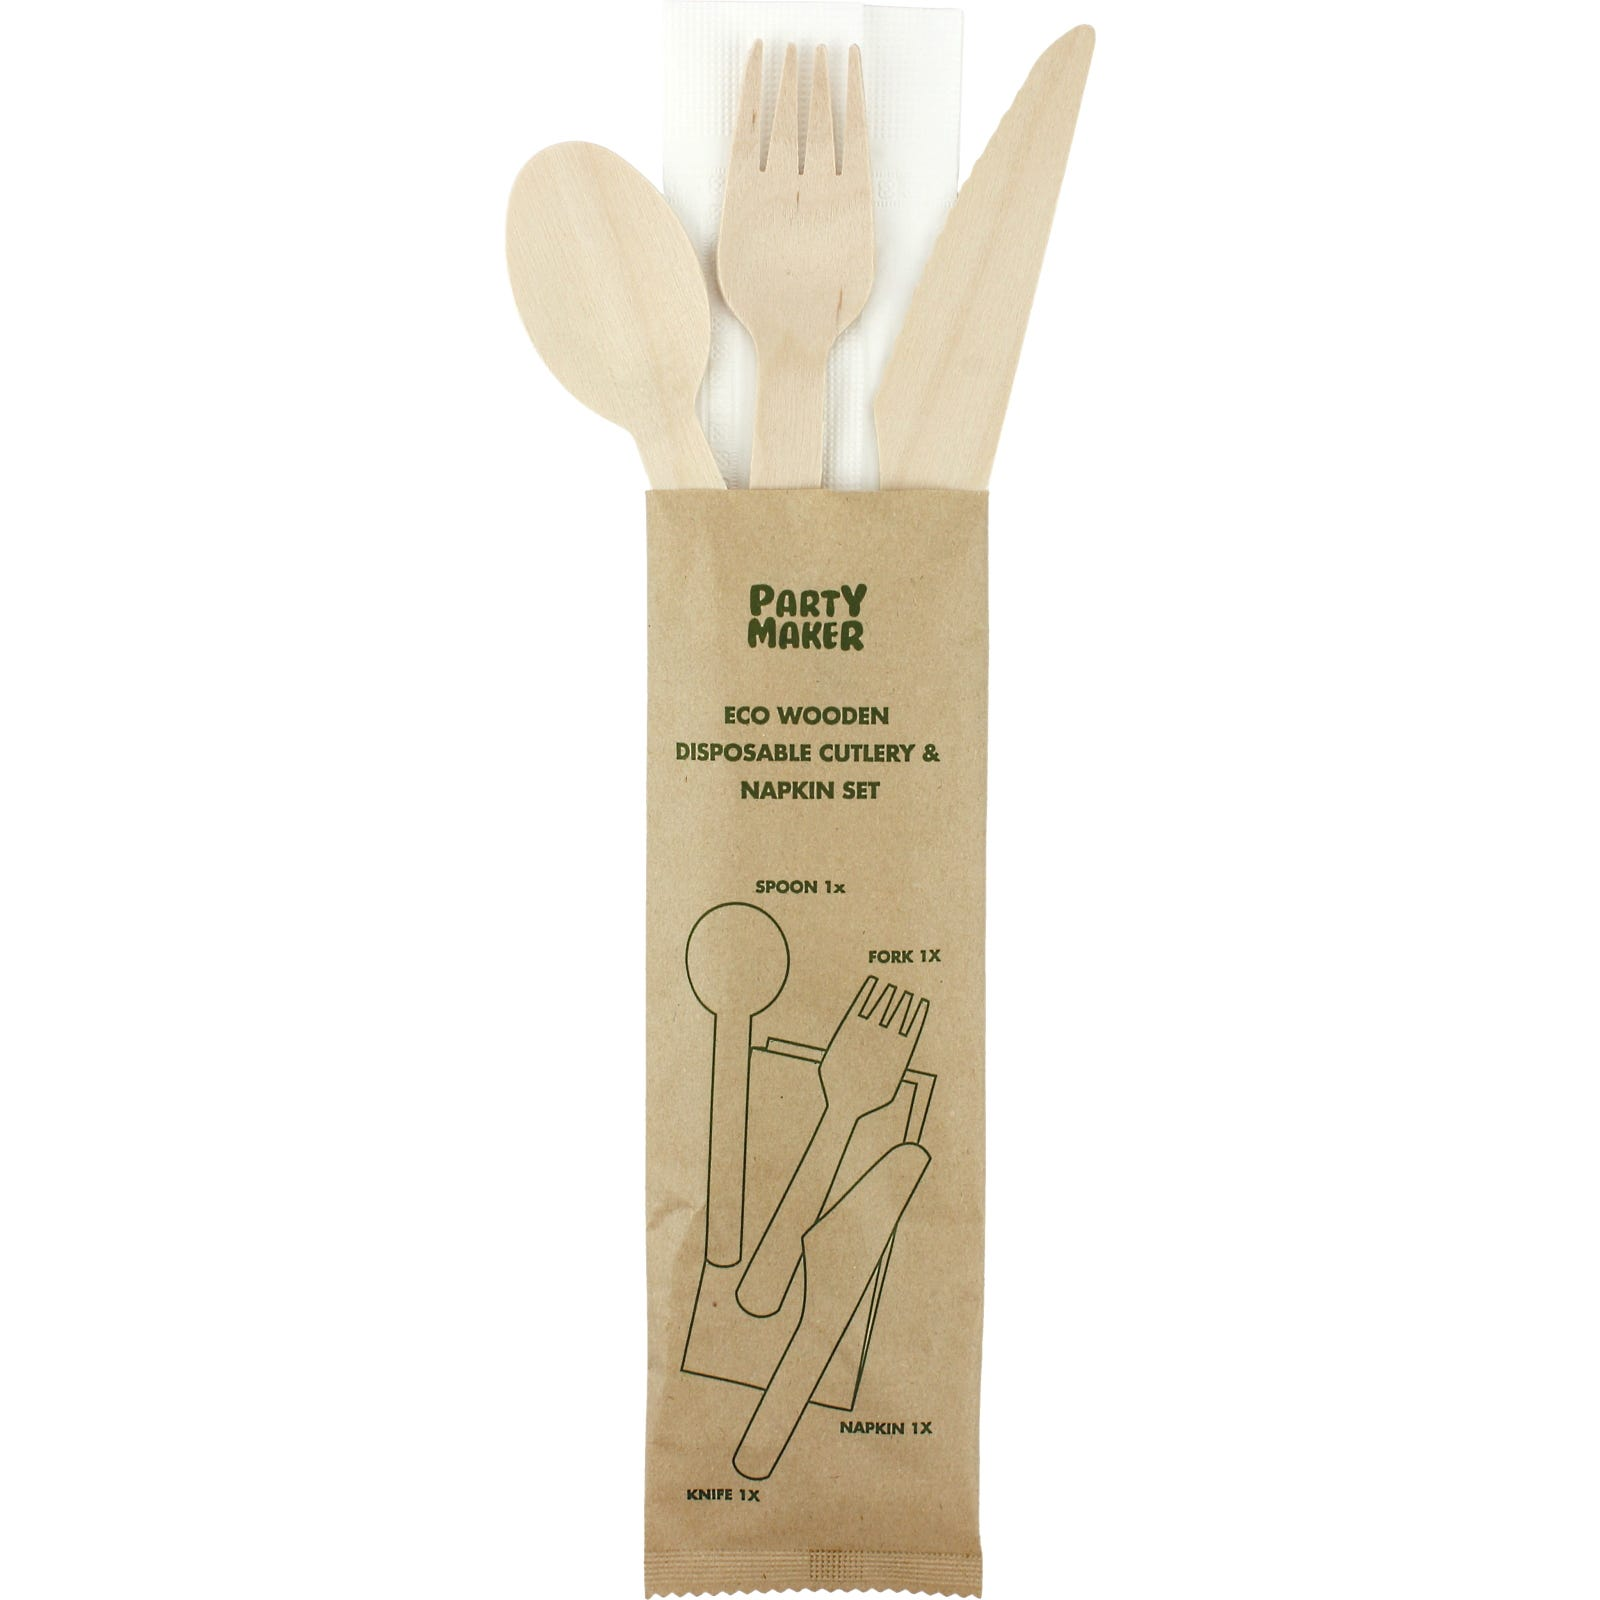Wooden Utensils: (862, 42, 1158, 567), (478, 42, 736, 500), (700, 3, 913, 541)
